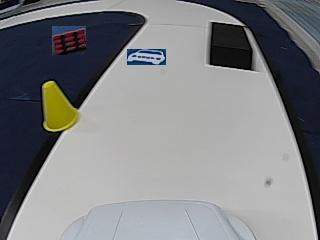block: (209, 21, 252, 69)
cone: (43, 82, 80, 132)
